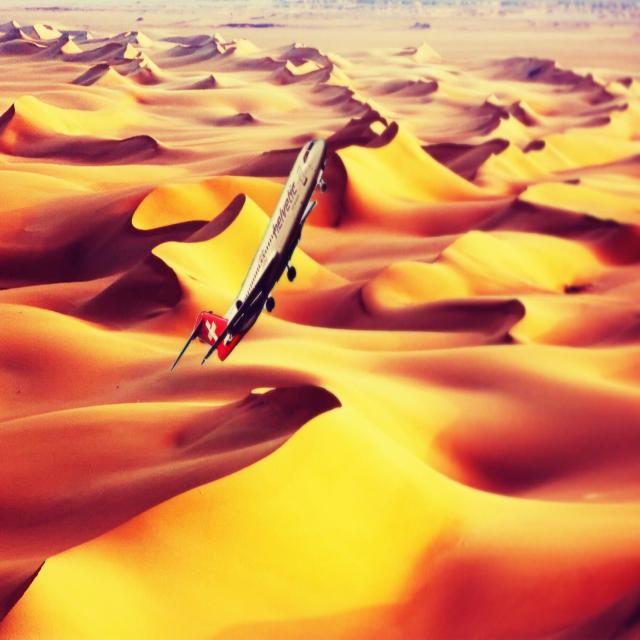airplane: (168, 136, 328, 372)
